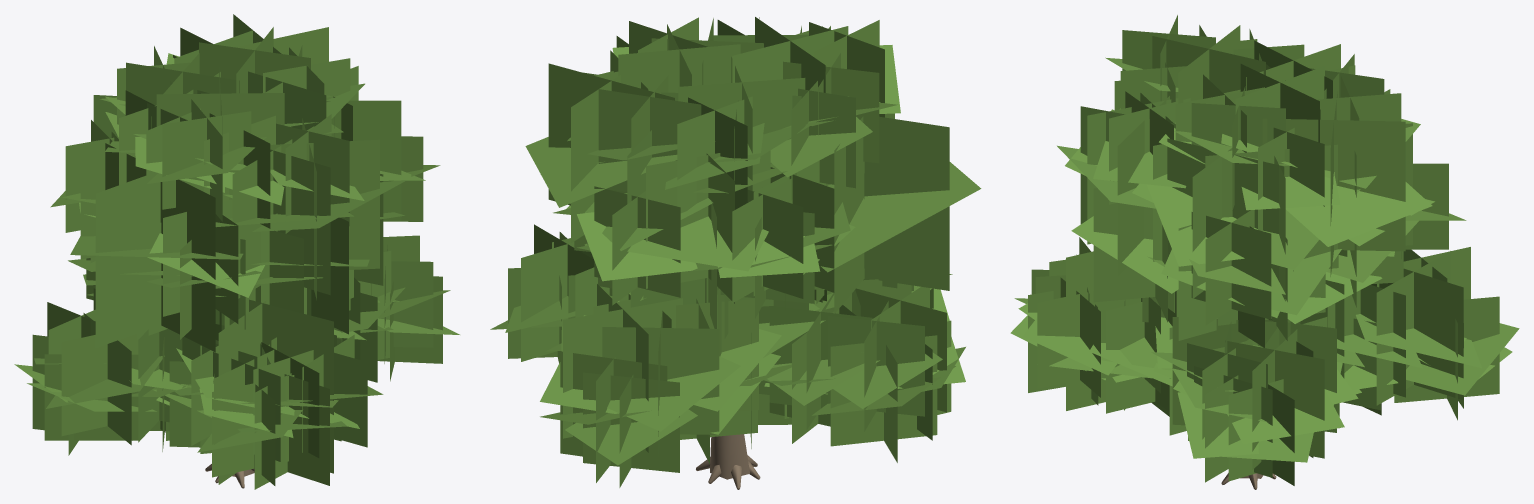
File: pommier_3_f3_loin.glb
The picture shows the model from 3 angles, left to right: view 1: azimuth 30°, elevation 25°; view 2: azimuth 150°, elevation 25°; view 3: azimuth 270°, elevation 25°; orthographic projection. The views are drawn at different scales.
Parts seen in each view (by area): view 1: Pommier_T3_f3_Leger_Loin; view 2: Pommier_T3_f3_Leger_Loin; view 3: Pommier_T3_f3_Leger_Loin.
Part boxes in pixels (bbox=[...]): Pommier_T3_f3_Leger_Loin: bbox=[14, 14, 459, 489]; Pommier_T3_f3_Leger_Loin: bbox=[490, 17, 981, 489]; Pommier_T3_f3_Leger_Loin: bbox=[1010, 15, 1519, 489].
Bounding box in the file's own units: 8.18 × 7.79 × 8.78.
